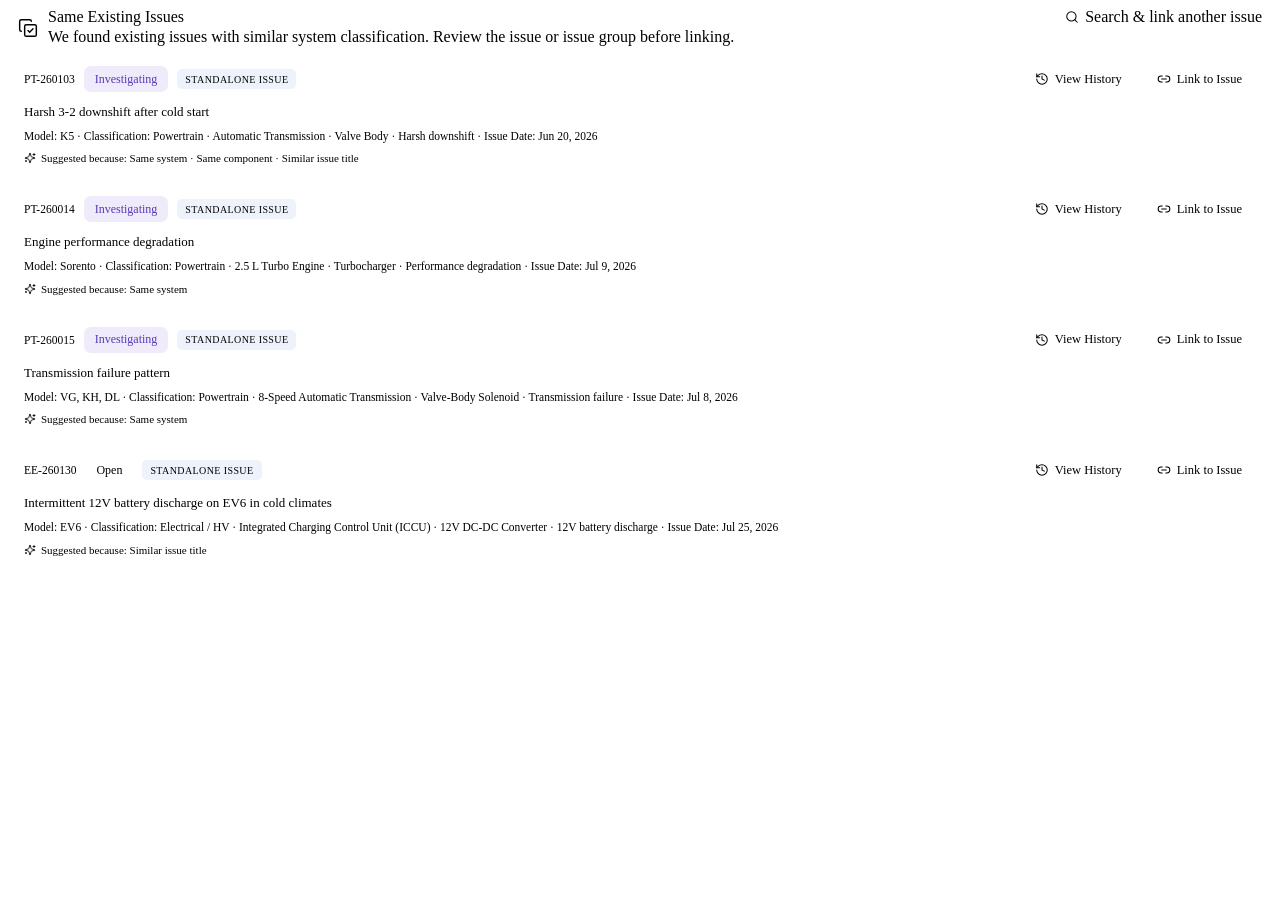
Test: search offers only issues it would be useful to link › finds issues by title text, not only by id
The image size is (1280, 900).
Click the button "Search & link another issue". click: x=1164, y=17
box: [1055,8,1272,26]
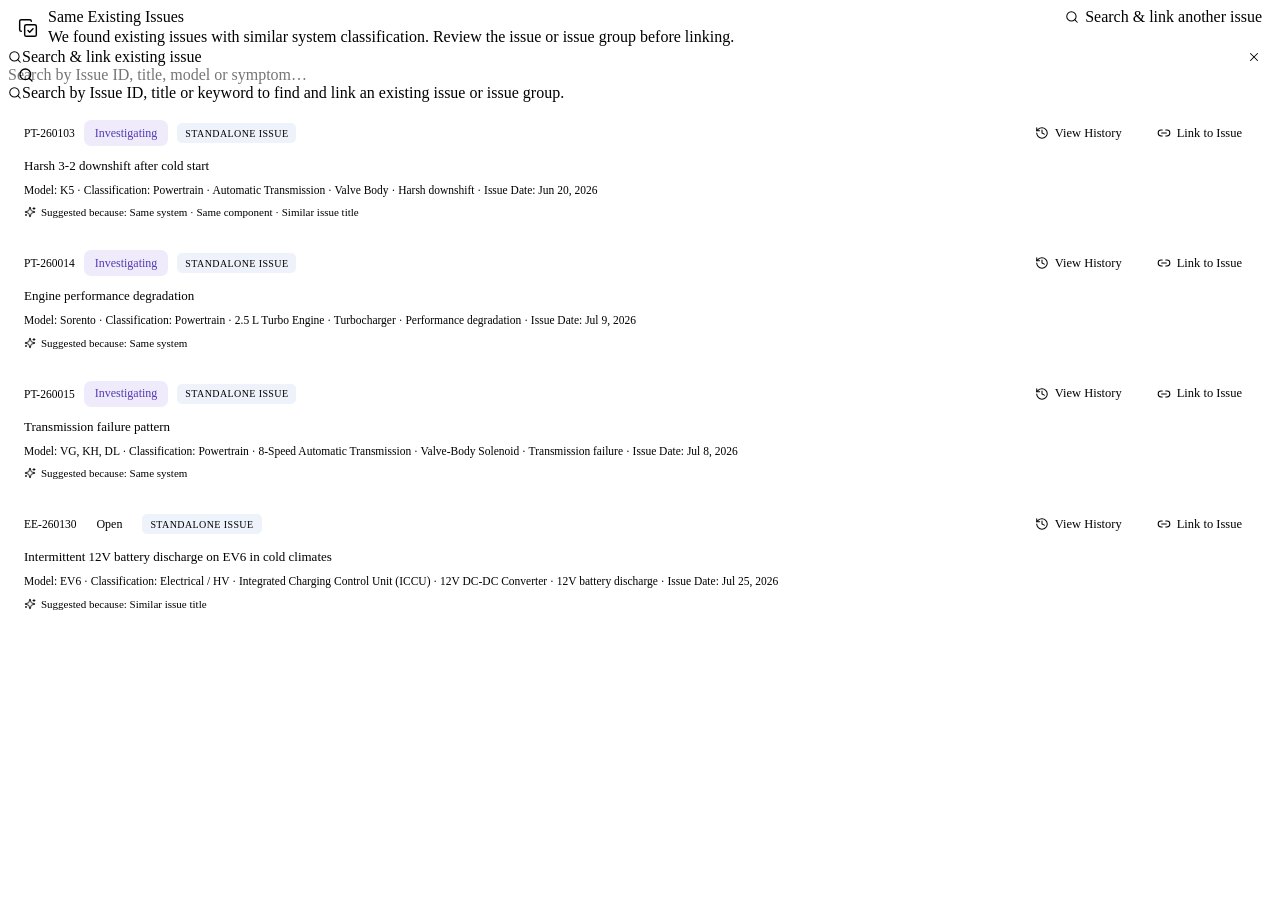
Type "vibration" into the search field named "search issues to link". click: x=640, y=75
box: [8,66,1272,84]
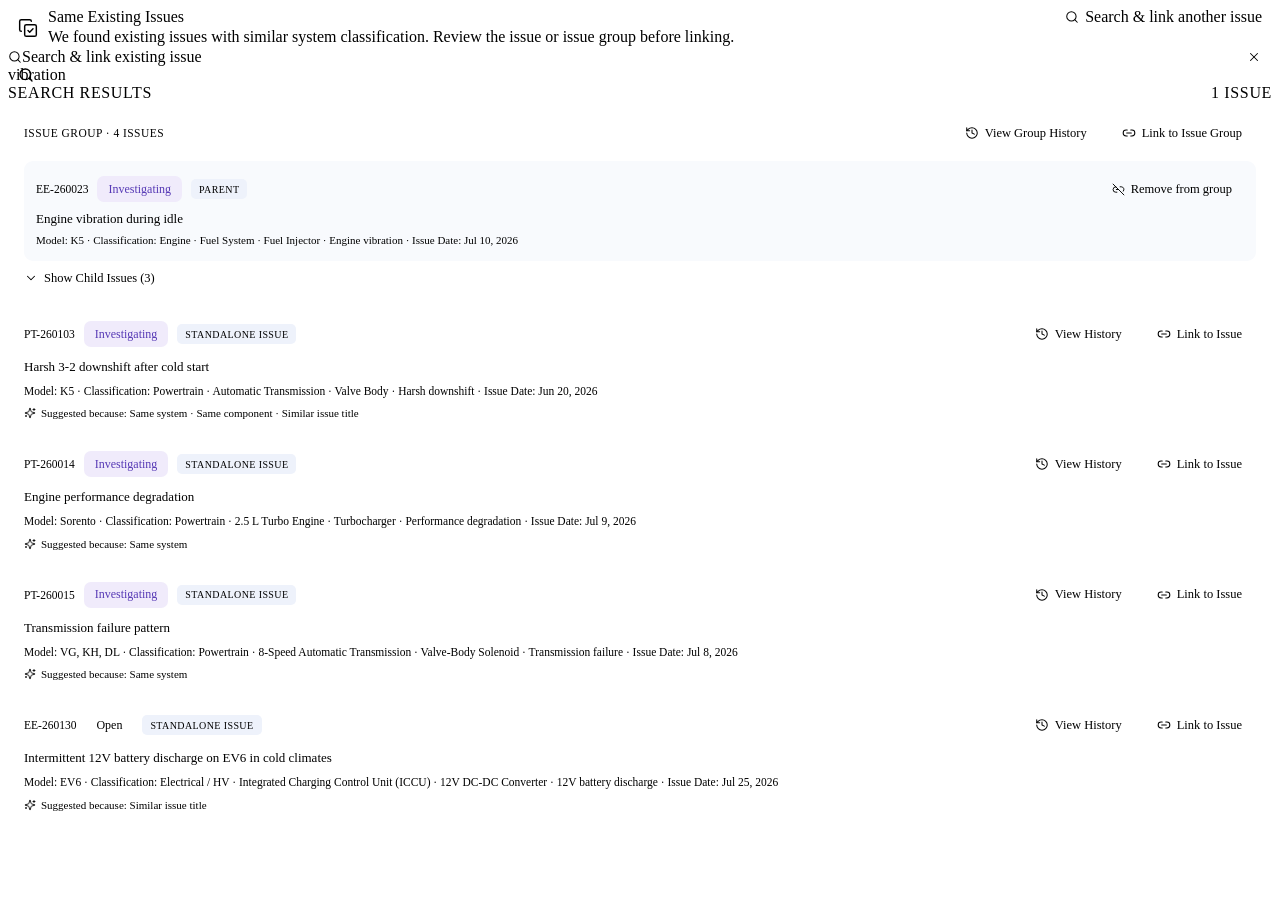
Now the text "EE-260023" is shown, box [36,183,88,195]
